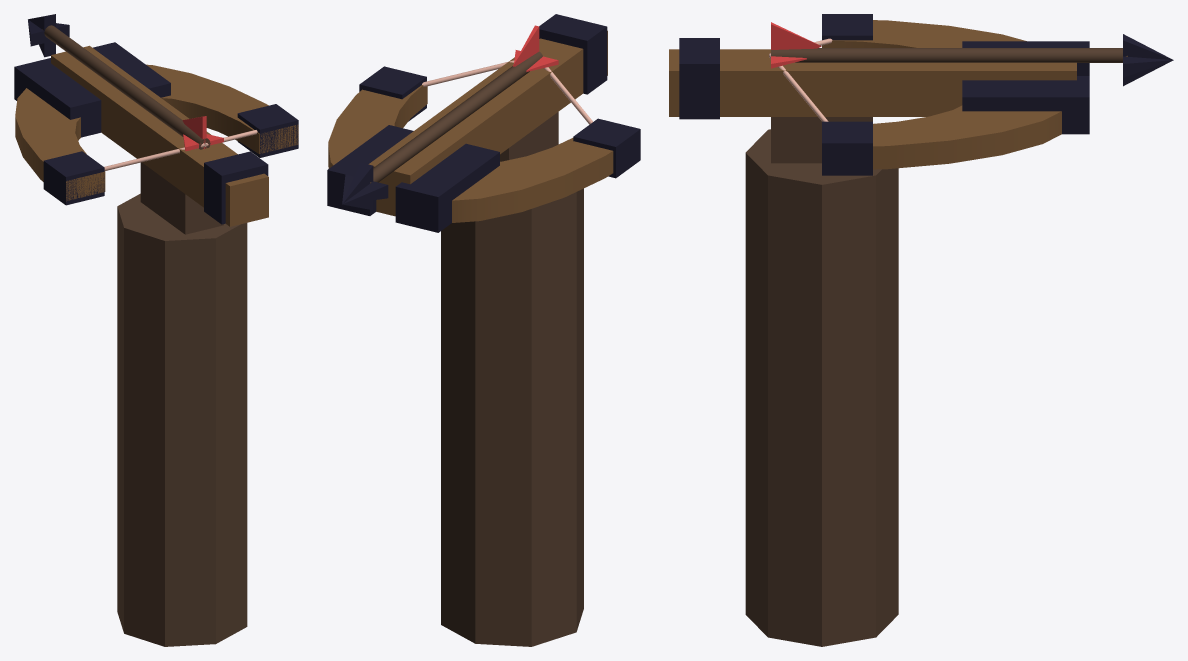
The model's file is CastleTowerTop.fbx.
3 renders of one model, left to right at view 1: azimuth 30°, elevation 25°; view 2: azimuth 150°, elevation 25°; view 3: azimuth 270°, elevation 25°, orthographic. The views are drawn at different scales.
Visible parts, largest first — view 1: mergedBlocks; view 2: mergedBlocks; view 3: mergedBlocks.
Part boxes in pixels (box(x1,y1,x2,y2)): mergedBlocks: box(14, 14, 298, 646); mergedBlocks: box(327, 14, 640, 646); mergedBlocks: box(669, 14, 1173, 646).
Bounding box in the file's own units: 6 × 12.8 × 9.9.
